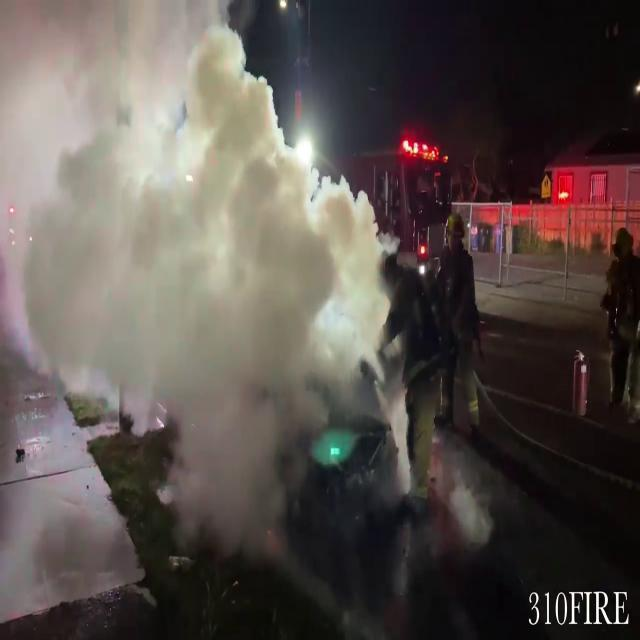Smoke: (0, 6, 403, 546)
